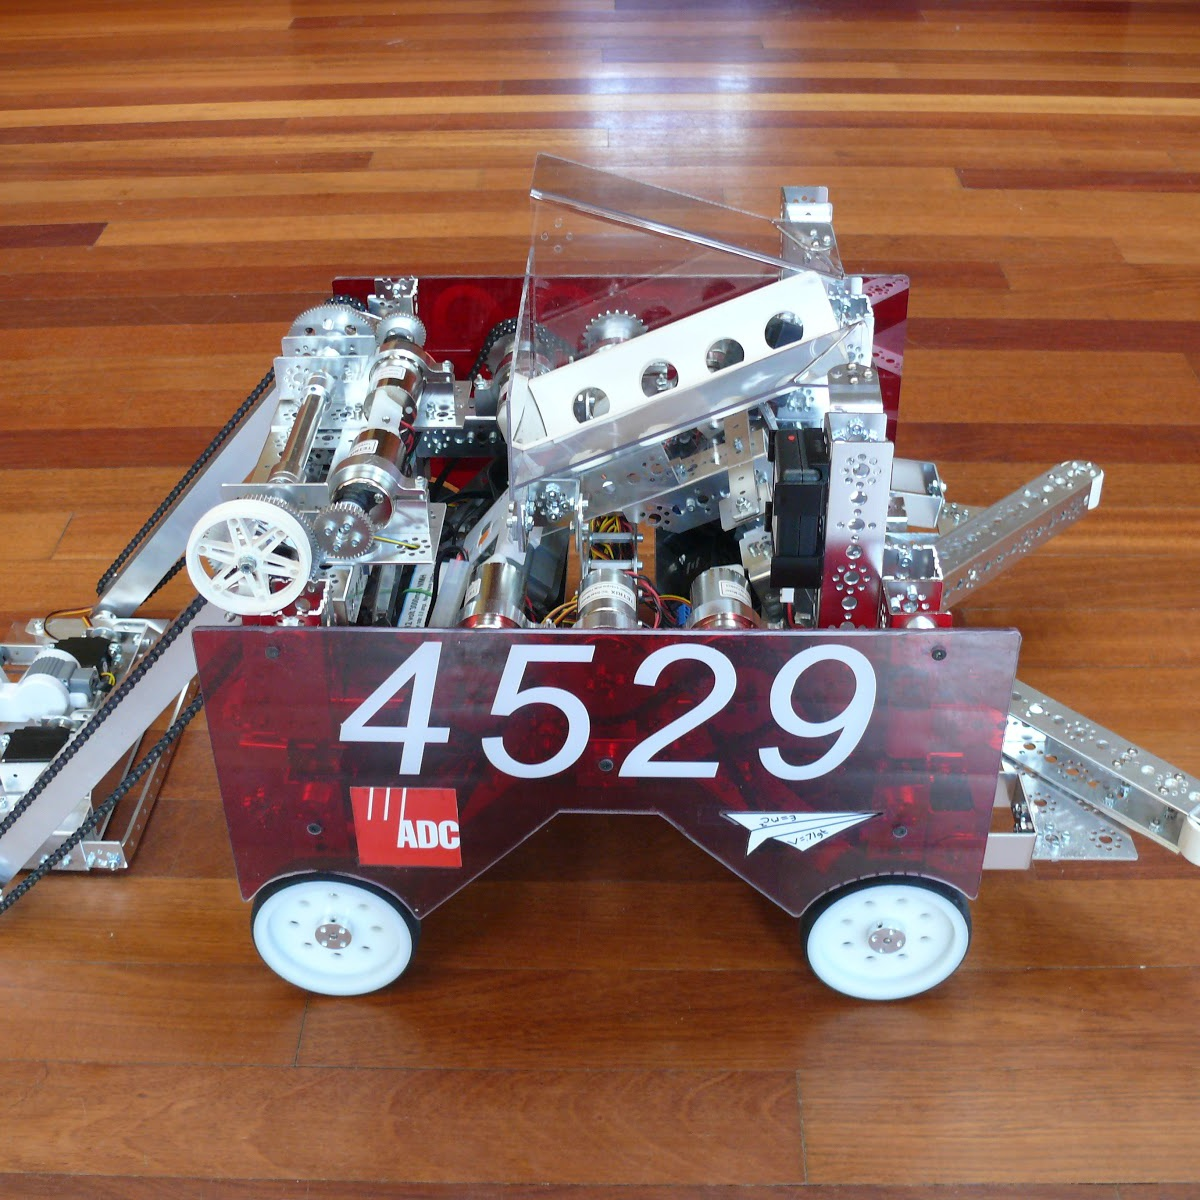robot: (0, 143, 1200, 1008)
